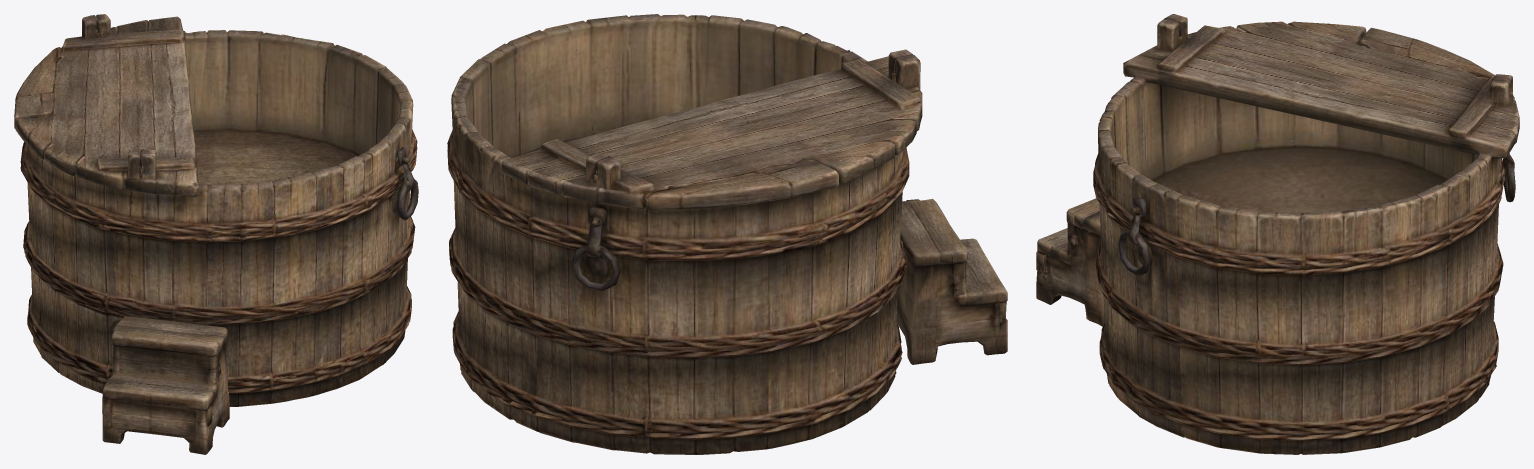
Rendered from th_ale_vat.glb.
3 renders of one model, left to right at view 1: azimuth 30°, elevation 25°; view 2: azimuth 150°, elevation 25°; view 3: azimuth 270°, elevation 25°, orthographic. The views are drawn at different scales.
Visible parts, largest first — view 1: th_ale_vat; view 2: th_ale_vat; view 3: th_ale_vat.
Part boxes in pixels (box(x1,y1,x2,y2)): th_ale_vat: box(14, 14, 418, 454); th_ale_vat: box(447, 14, 1007, 454); th_ale_vat: box(1036, 14, 1519, 454).
Size of the model in its own units: 2.04 by 1.35 by 2.11.
1 material, 1 textured.
